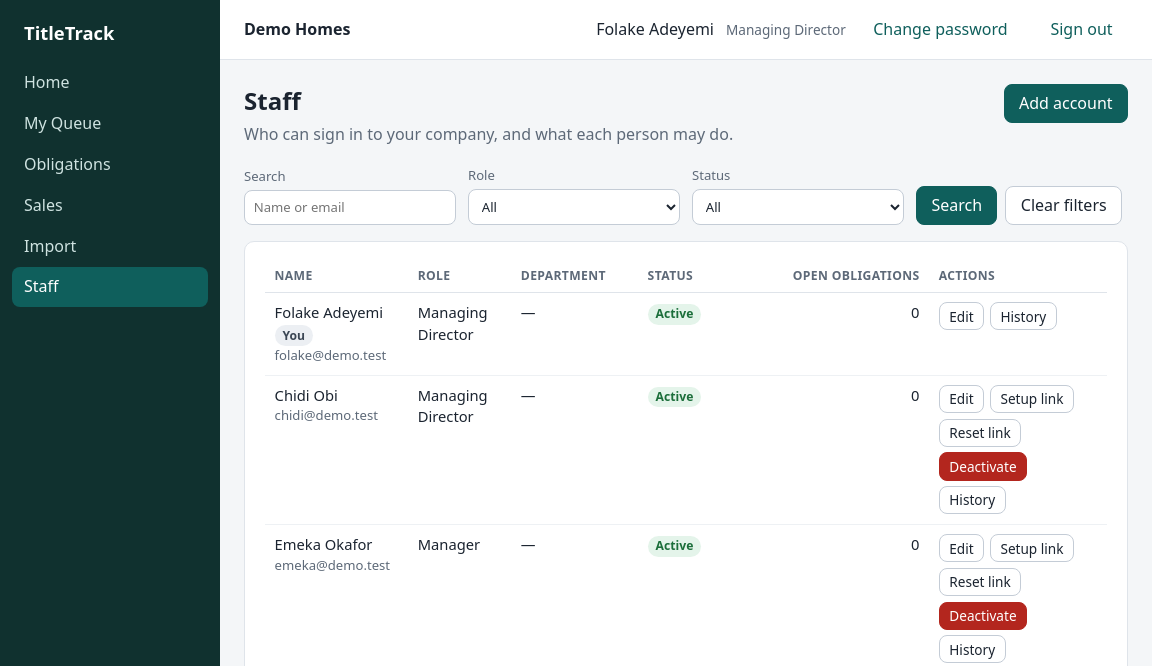
Test: adding an account › lets other roles skip the department, and sends no link when the box is unticked
Expected: the heading "Staff" is shown, 244,84 -> 301,117
Click the button "Add account": click(1066, 104) 1004,84 -> 1128,123
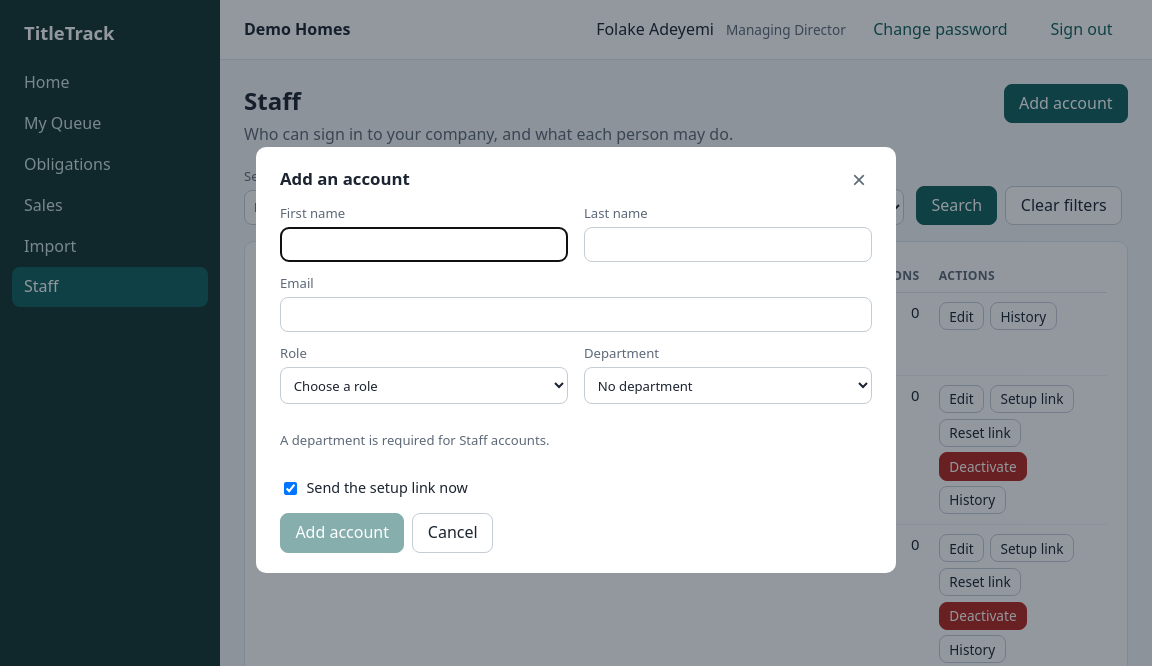
In the field labelled "First name": (424, 244) 280,227 -> 568,262, type "Nia"
In the field labelled "Last name": (728, 244) 584,227 -> 872,262, type "Eze"
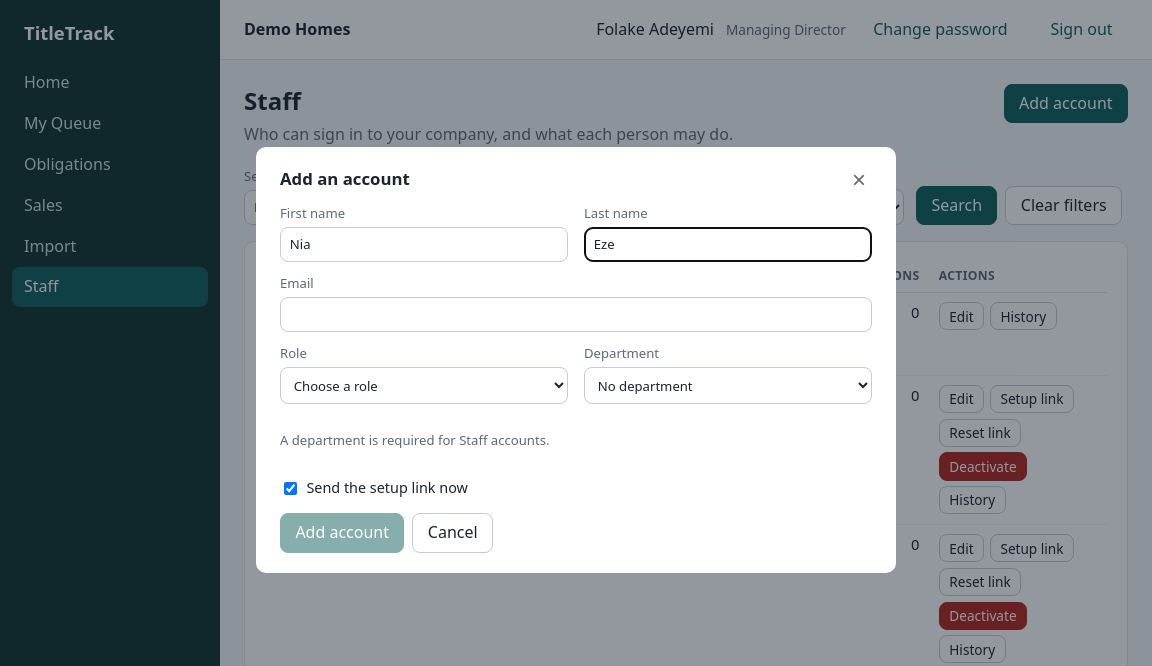
In the field labelled "Email": (576, 315) 280,297 -> 872,332, type "nia@demo.test"
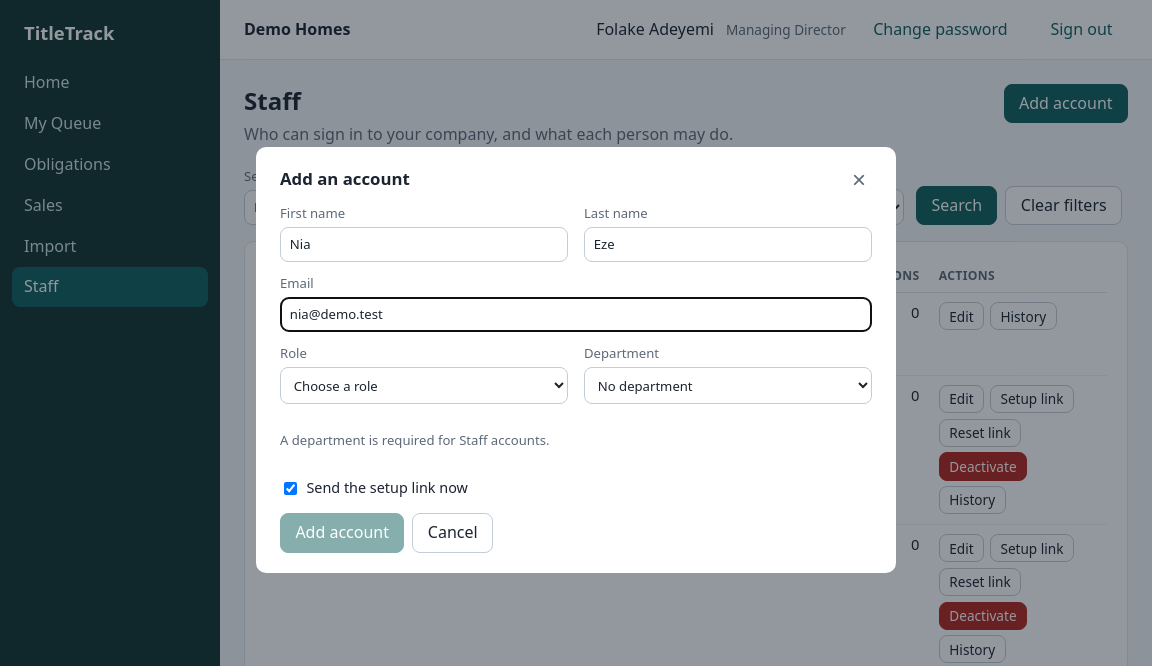
Select "Viewer" in the dropdown labelled "Role": (424, 386) 280,368 -> 568,404
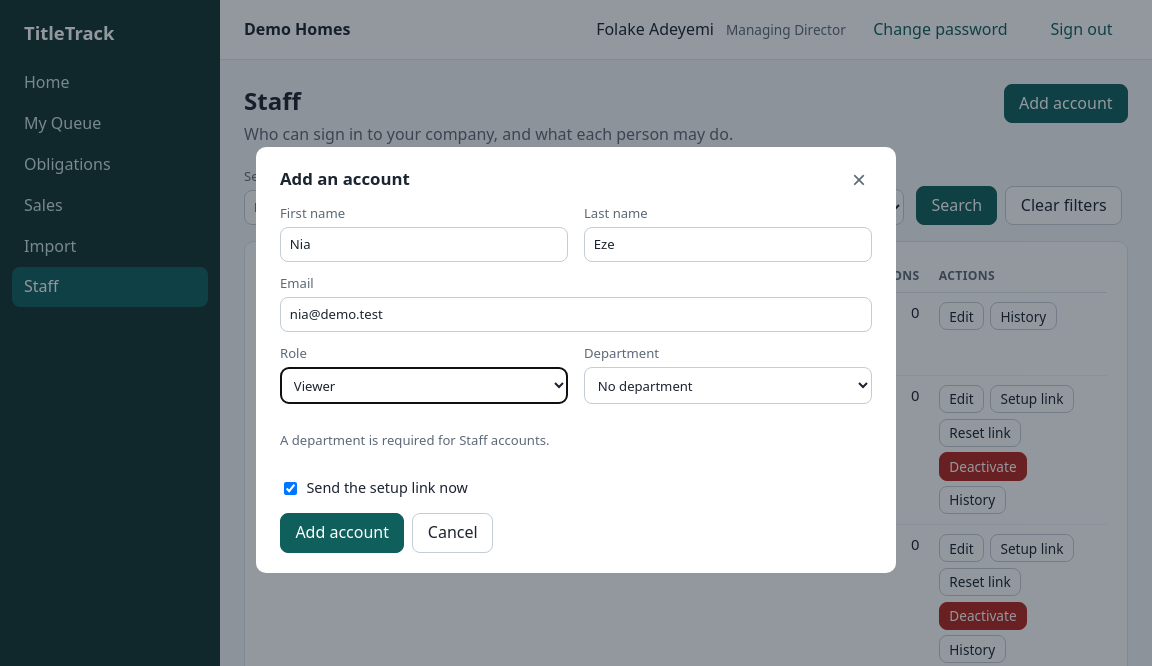
Click the checkbox labelled "Send the setup link now": click(290, 488) 284,482 -> 297,495
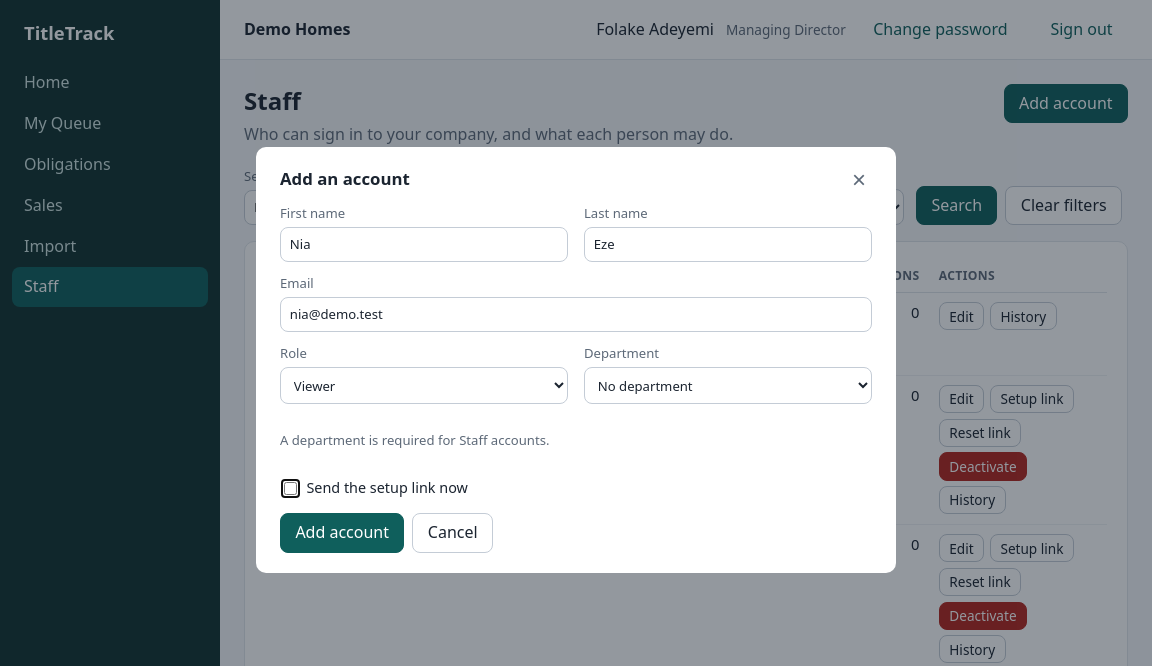
Click the button "Add account": click(342, 533) 280,513 -> 404,553
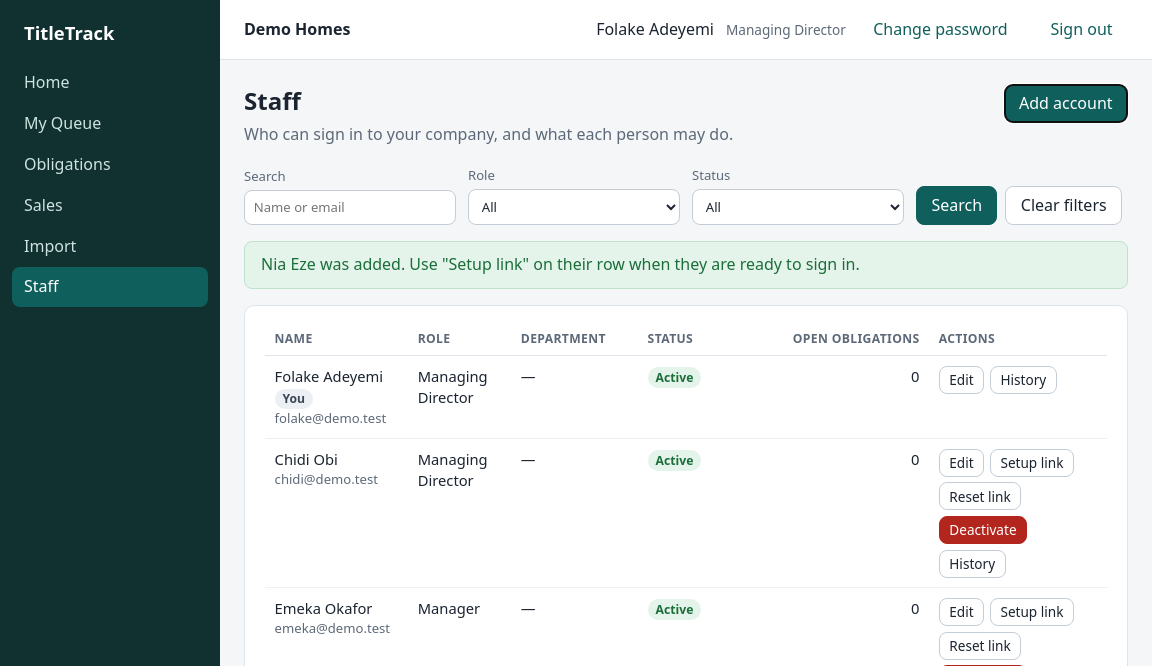
Result: the text "Nia Eze was added. Use \"Setup link\"" is shown at 261,253 -> 860,275
Result: the dialog is gone
